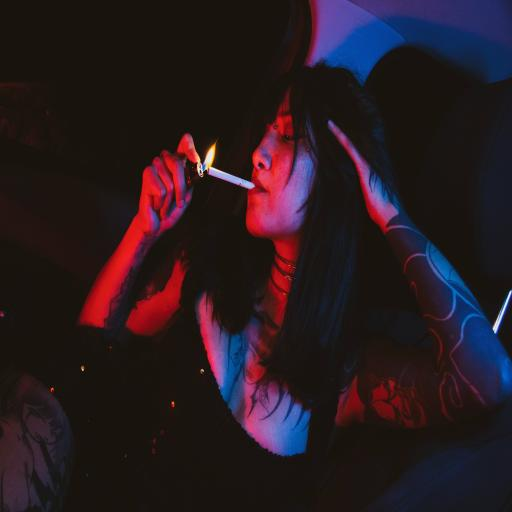lighter: (167, 102, 230, 214)
